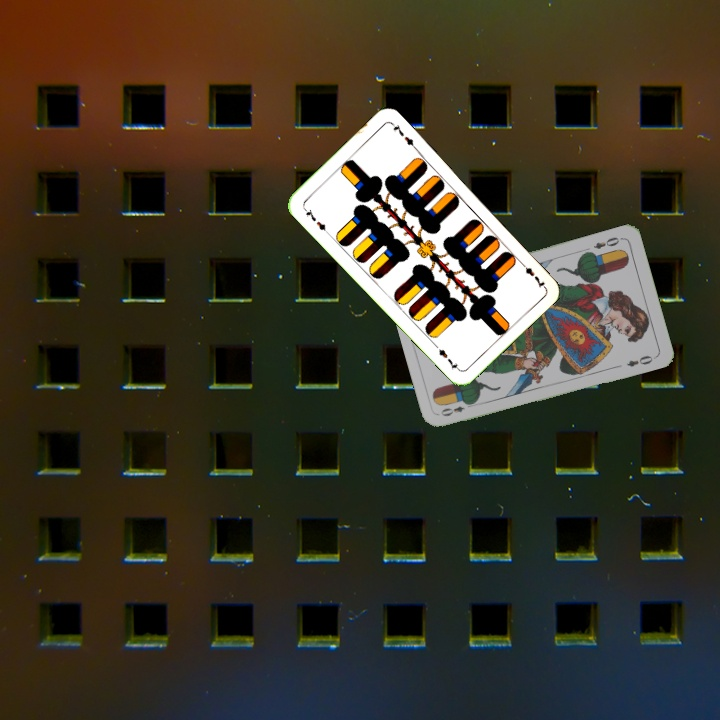E7: (299, 203, 331, 236), (516, 257, 547, 290)
EO: (437, 398, 476, 419), (590, 233, 625, 252)
